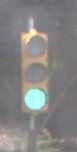Green: (16, 30, 55, 115)
